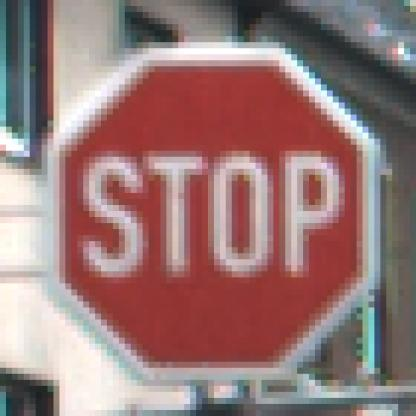stop: (41, 31, 384, 388)
